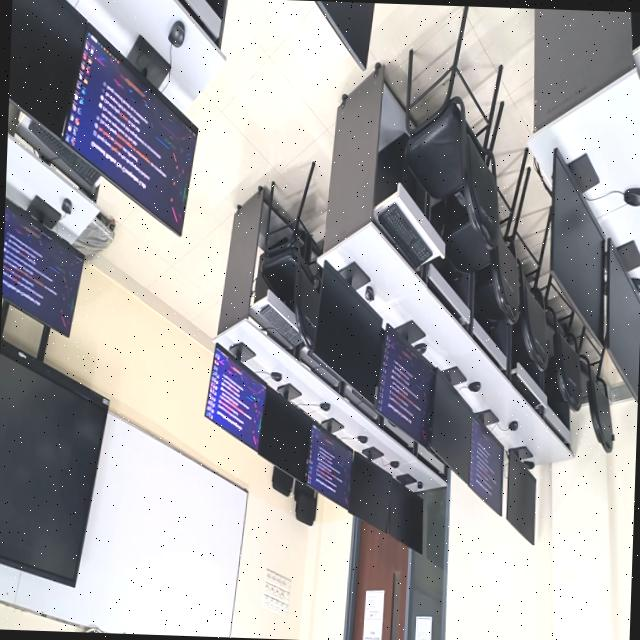Chair: (404, 5, 500, 249), (257, 161, 321, 348), (441, 195, 518, 322), (507, 213, 549, 369), (542, 274, 581, 409), (579, 354, 612, 451), (292, 480, 315, 525), (270, 465, 292, 496)
Cpu: (373, 133, 424, 209), (429, 256, 461, 289)
Digital board: (0, 300, 107, 584)
Keyboard: (28, 119, 99, 185), (376, 203, 430, 266), (258, 305, 300, 344)
Monitor: (62, 23, 197, 234), (1, 196, 83, 335), (548, 148, 604, 342), (307, 260, 383, 402), (8, 0, 85, 134), (375, 320, 435, 443), (204, 341, 264, 448), (605, 238, 640, 404), (257, 384, 311, 482), (427, 369, 472, 482), (313, 0, 373, 69), (305, 418, 351, 507), (347, 446, 391, 530), (467, 409, 502, 514), (505, 447, 535, 543), (387, 473, 422, 552)
Mouse: (166, 19, 183, 46), (622, 187, 640, 205), (60, 197, 71, 213), (364, 285, 373, 301), (413, 342, 425, 354), (631, 277, 640, 292), (467, 381, 479, 391), (522, 460, 533, 469), (269, 371, 280, 380), (318, 402, 329, 410), (507, 420, 516, 429), (356, 435, 366, 443), (389, 460, 398, 467), (416, 481, 421, 489)
